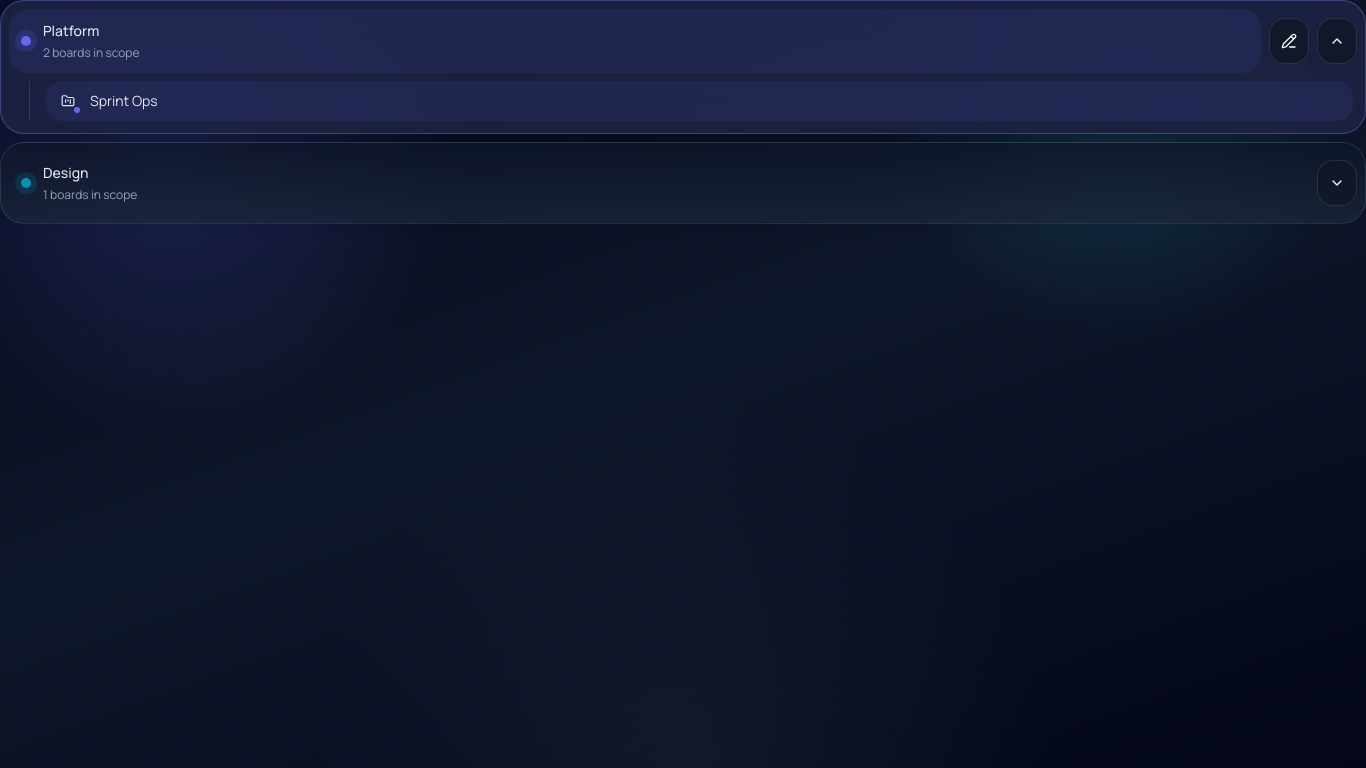
Test: SidebarOrganizationTree › auto-expands the active org and lazily loads other org boards on demand
expect the link "Platform 2 boards in scope" is shown: met, box [9,9,1261,73]
expect the button named "Edit Platform" is shown: met, box [1269,18,1309,64]
Click the button named "Expand Design" at (1337, 183), box [1317,160,1357,206]
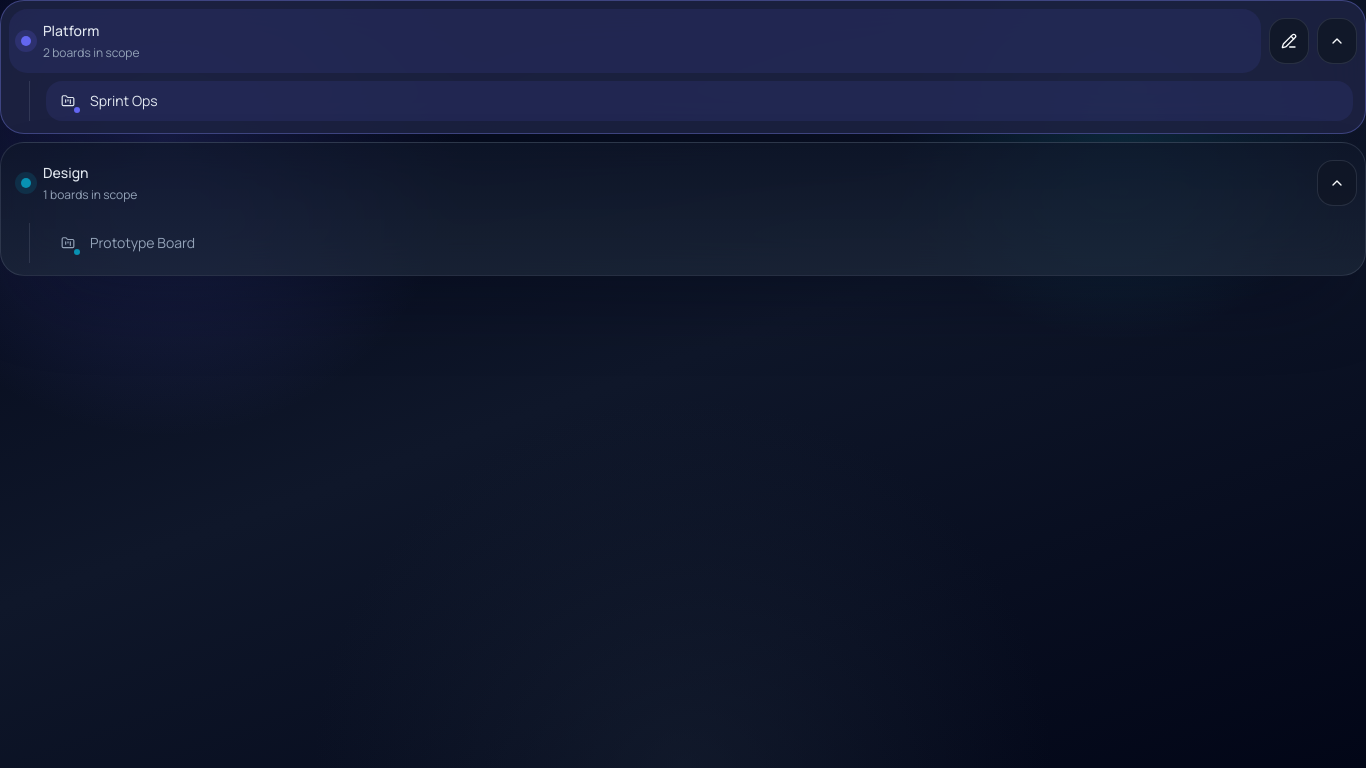
expect the link "Prototype Board" is shown: met, box [61,233,195,255]
